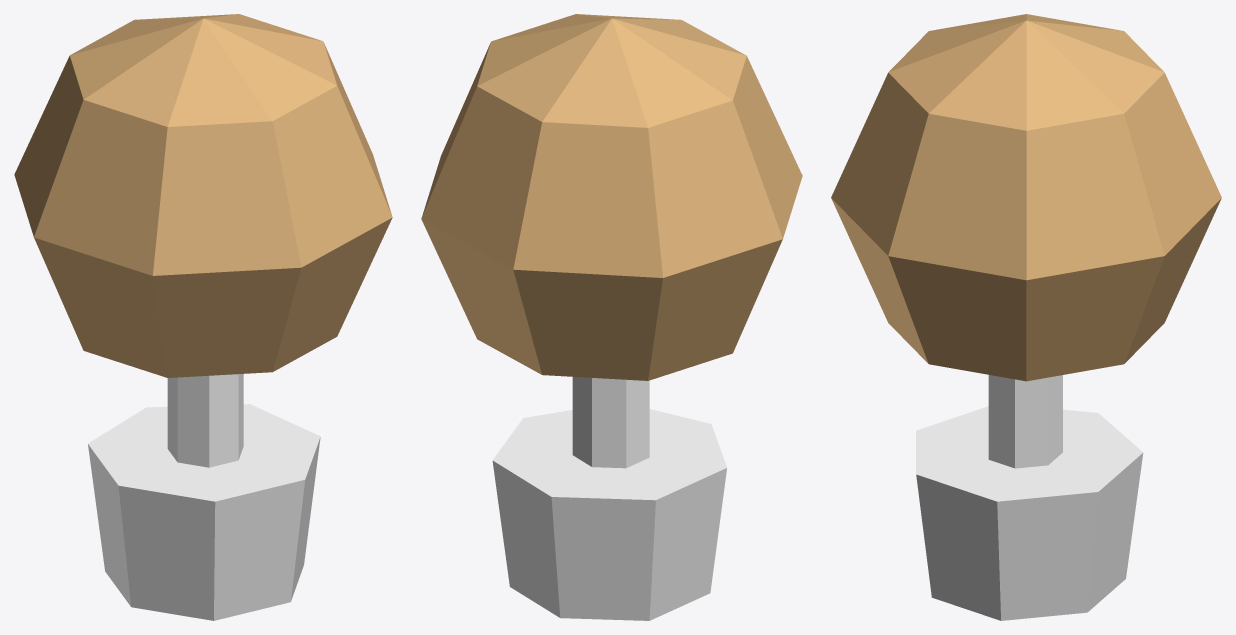
Rendered from Lamp_001.fbx.
3 views of the same model, side by side, from view 1: azimuth 30°, elevation 25°; view 2: azimuth 150°, elevation 25°; view 3: azimuth 270°, elevation 25° (orthographic).
Parts seen in each view (by area): view 1: Lamp.001; view 2: Lamp.001; view 3: Lamp.001.
Part boxes in pixels (left/top/right/bottom): Lamp.001: left=14, top=14, right=392, bottom=620; Lamp.001: left=421, top=14, right=802, bottom=620; Lamp.001: left=831, top=14, right=1221, bottom=620.
Bounding box in the file's own units: 100 × 157 × 100.
